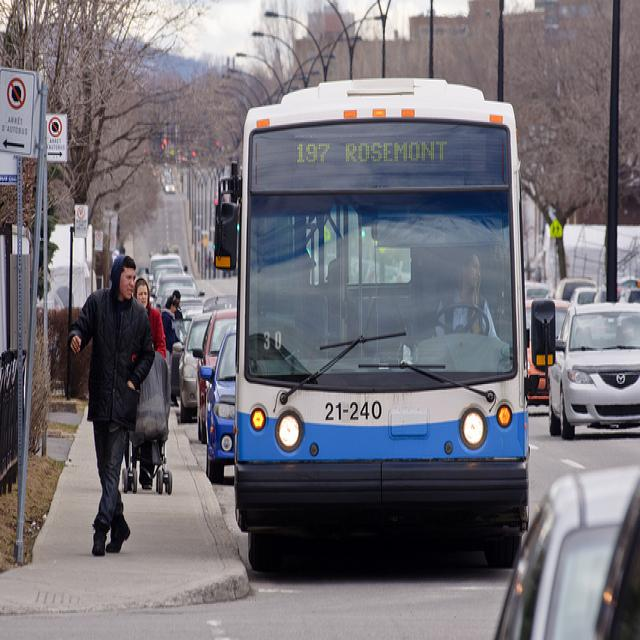Vehicle: (231, 81, 536, 579), (495, 470, 640, 632), (548, 301, 639, 441), (172, 290, 241, 396), (193, 308, 240, 447), (203, 332, 237, 484), (526, 299, 573, 406), (174, 313, 214, 423), (518, 274, 639, 309), (152, 273, 201, 309), (151, 266, 184, 296), (554, 278, 596, 300), (149, 252, 182, 274), (180, 297, 203, 319), (570, 287, 598, 304)
